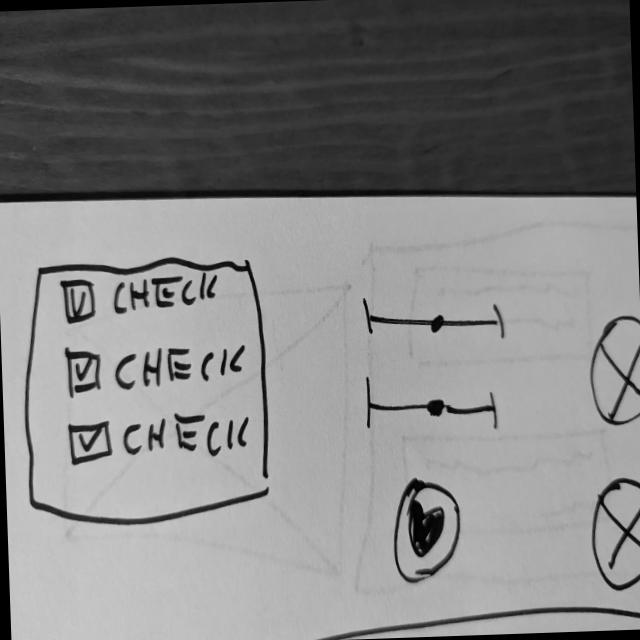container: (15, 251, 274, 532), (60, 272, 218, 324)
